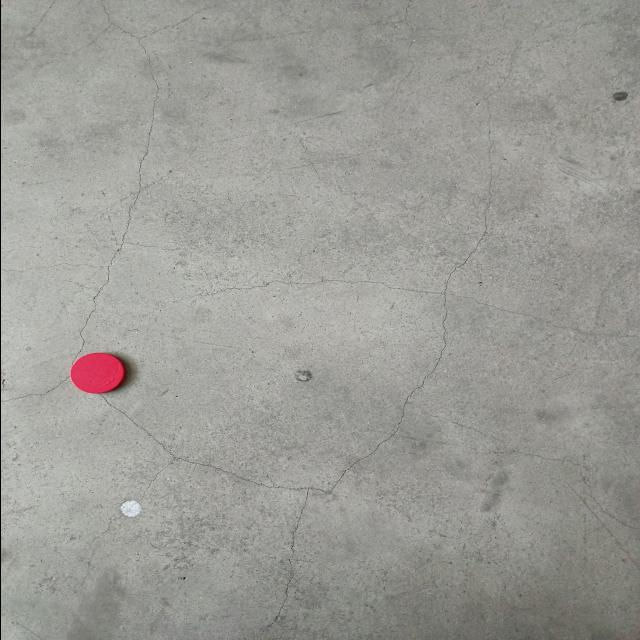chip: (64, 352, 134, 394)
